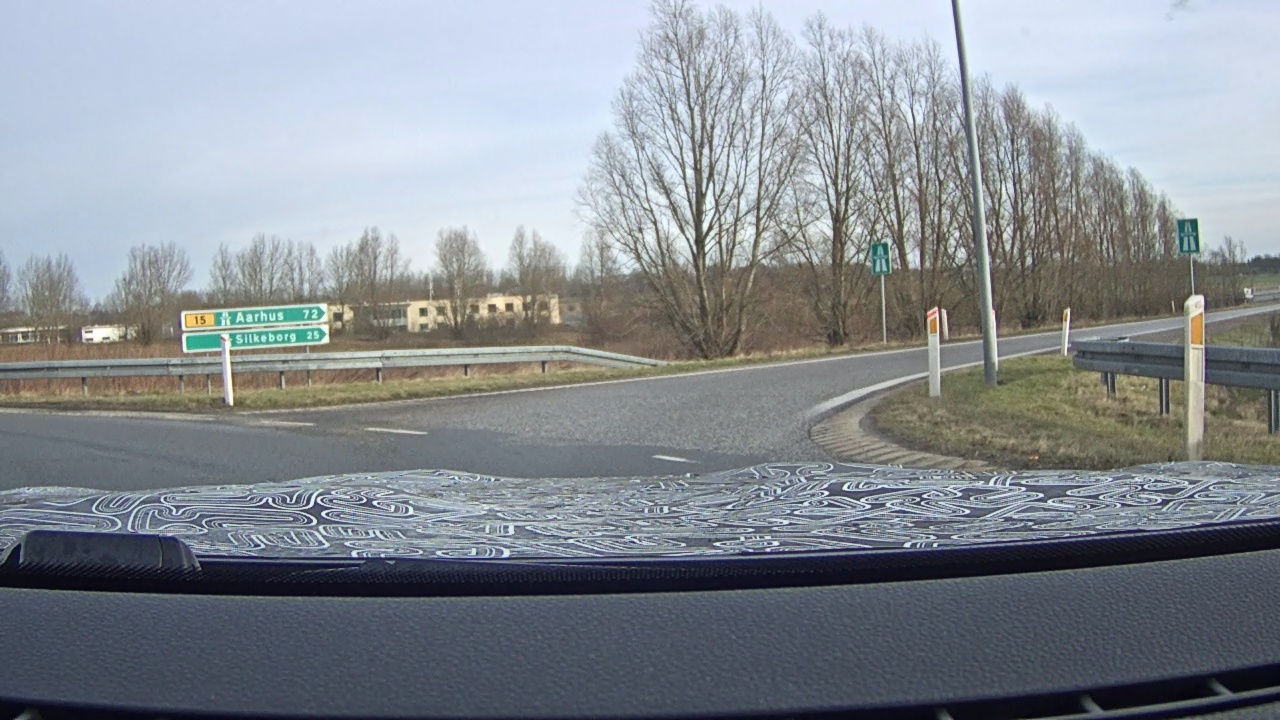Motorway_Begin: (1177, 218, 1200, 254), (870, 241, 892, 274)
